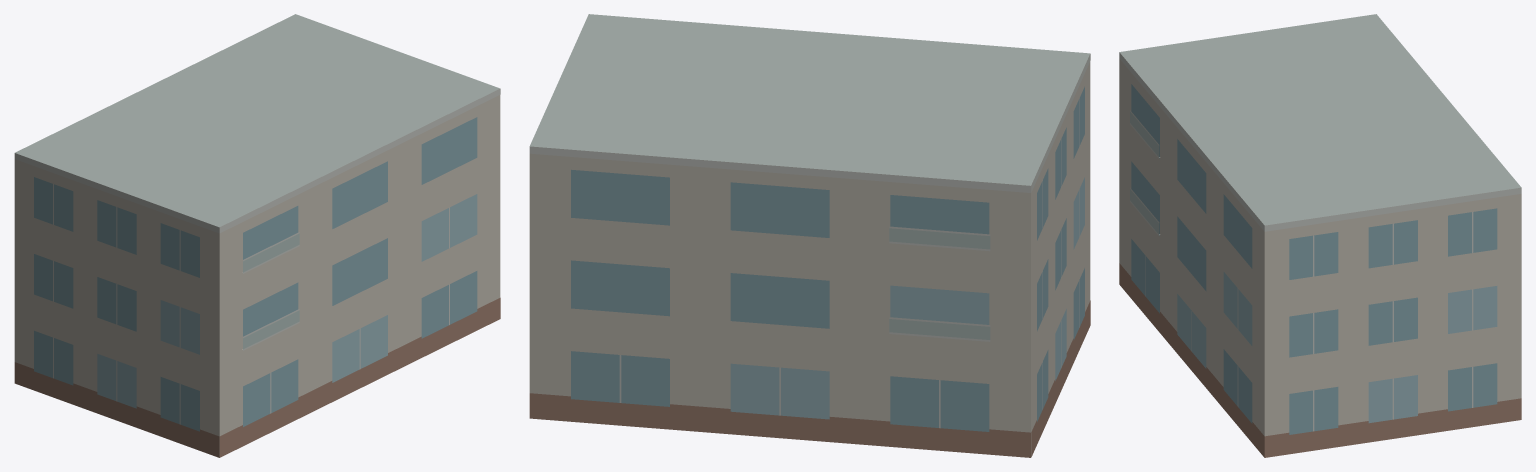
Rendered from survey-upis-32910899.glb.
3 renders of one model, left to right at view 1: azimuth 30°, elevation 25°; view 2: azimuth 150°, elevation 25°; view 3: azimuth 270°, elevation 25°, orthographic. The views are drawn at different scales.
Visible parts, largest first — view 1: survey-upis-32910899.tmp; view 2: survey-upis-32910899.tmp; view 3: survey-upis-32910899.tmp.
Part boxes in pixels (x1=…): survey-upis-32910899.tmp: x1=14, y1=14, x2=500, y2=457; survey-upis-32910899.tmp: x1=529, y1=14, x2=1090, y2=457; survey-upis-32910899.tmp: x1=1119, y1=14, x2=1521, y2=457.
Size of the model in its own units: 17.89 by 9.15 by 14.37.
